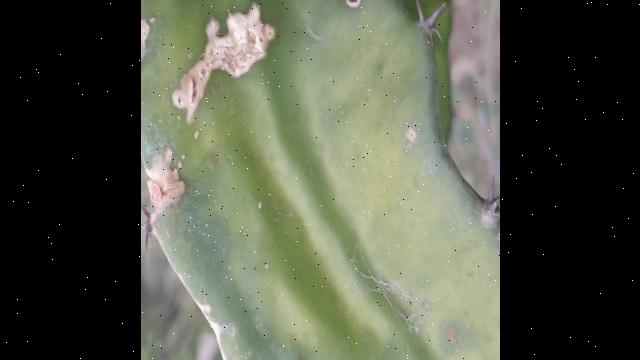stemcanker: (160, 2, 287, 125), (142, 147, 187, 248)
